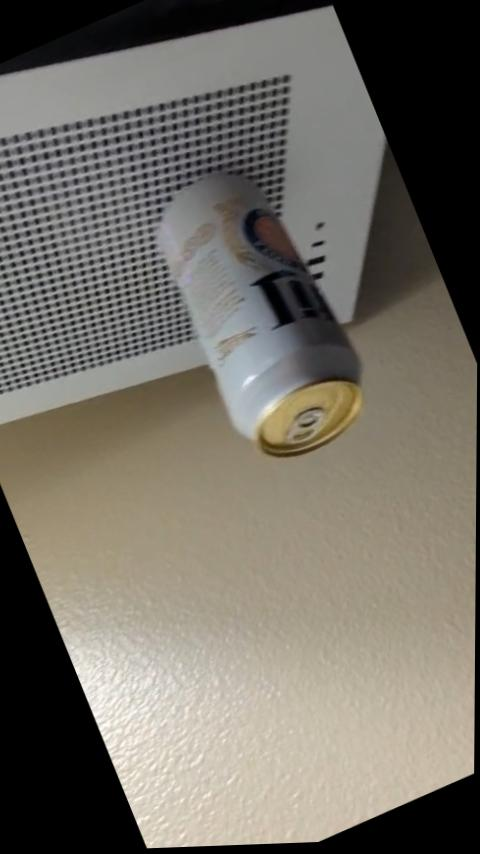metal: (159, 175, 364, 457)
